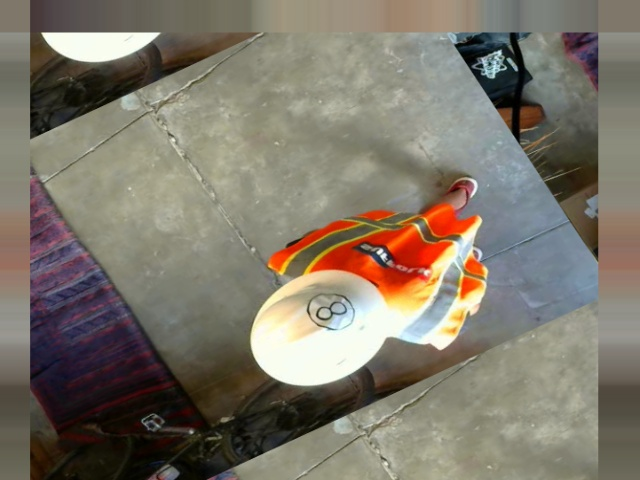eight: (298, 283, 362, 338)
